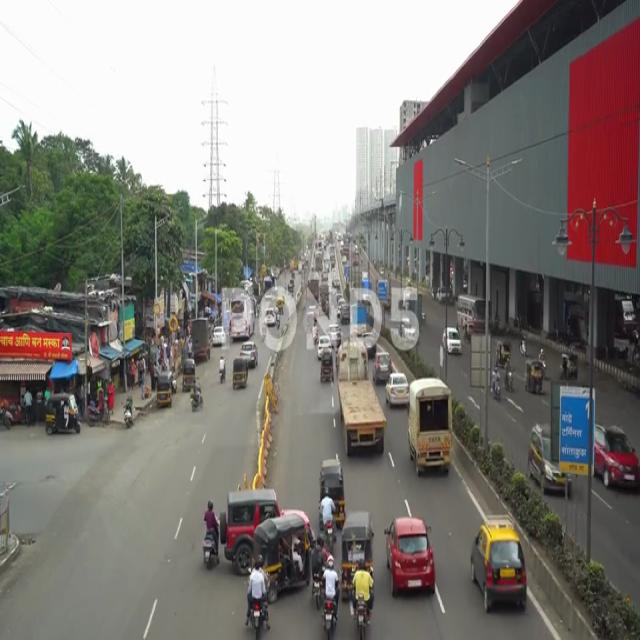car: (470, 516, 527, 618), (385, 517, 438, 598), (596, 425, 639, 504), (525, 420, 564, 507), (386, 373, 409, 410)
motorbike: (350, 559, 374, 640), (245, 556, 268, 638), (321, 555, 341, 640), (200, 489, 220, 572), (492, 365, 502, 406), (217, 353, 228, 388)
rikshaw: (46, 398, 80, 438), (524, 358, 543, 399), (232, 357, 248, 392)
truck: (407, 376, 452, 478)
